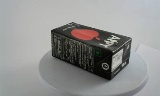appy: (46, 22, 123, 81)
